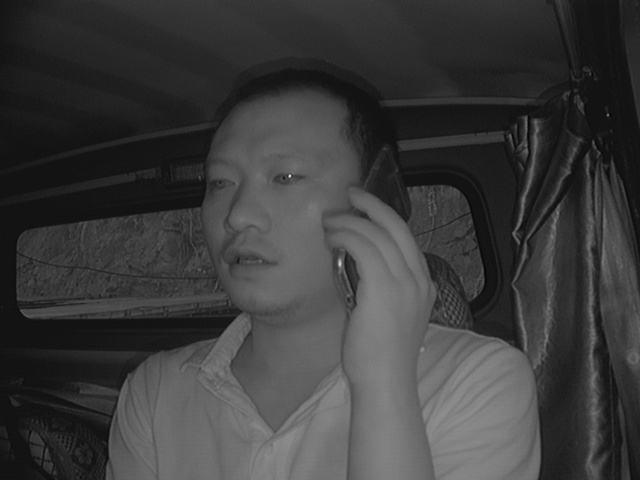hand: (323, 190, 442, 377)
